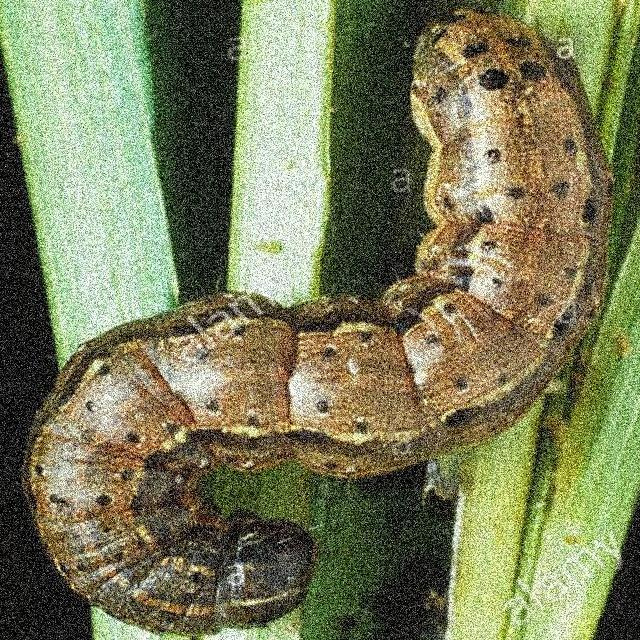Plaga: (20, 1, 619, 633)
